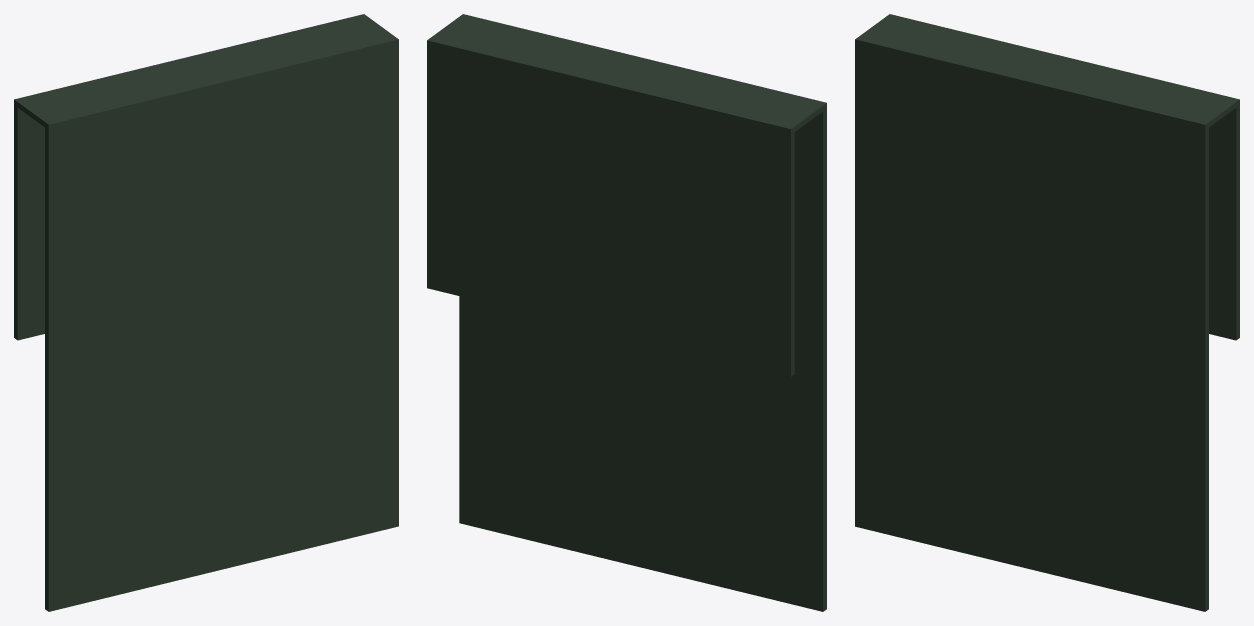
Rendered from Itr_Towel_09.FBX.
3 renders of one model, left to right at view 1: azimuth 30°, elevation 25°; view 2: azimuth 150°, elevation 25°; view 3: azimuth 330°, elevation 25°, orthographic. The views are drawn at different scales.
Visible parts, largest first — view 1: Itr_Towel_09; view 2: Itr_Towel_09; view 3: Itr_Towel_09.
Boxes of the visible parts, x1,y1,x2,y2 form: Itr_Towel_09: [14, 14, 398, 611]; Itr_Towel_09: [427, 14, 826, 611]; Itr_Towel_09: [855, 14, 1239, 611].
Size of the model in its own units: 17.26 by 22.96 by 2.97.
